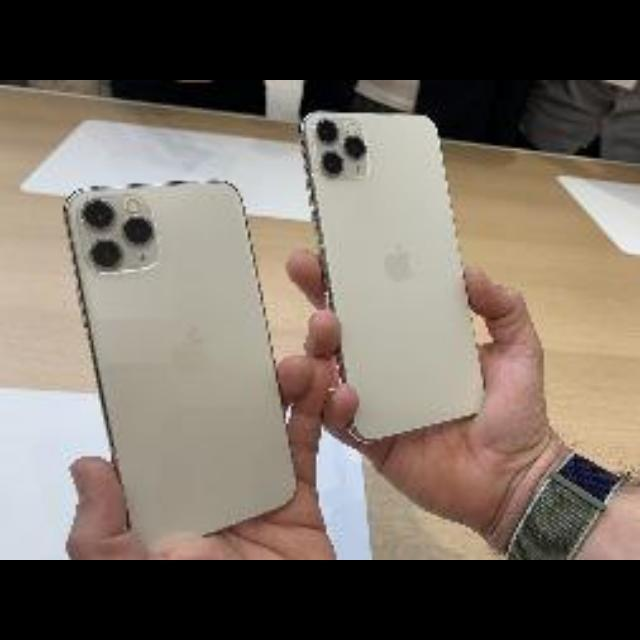phone: (38, 167, 324, 539), (280, 91, 540, 453)
